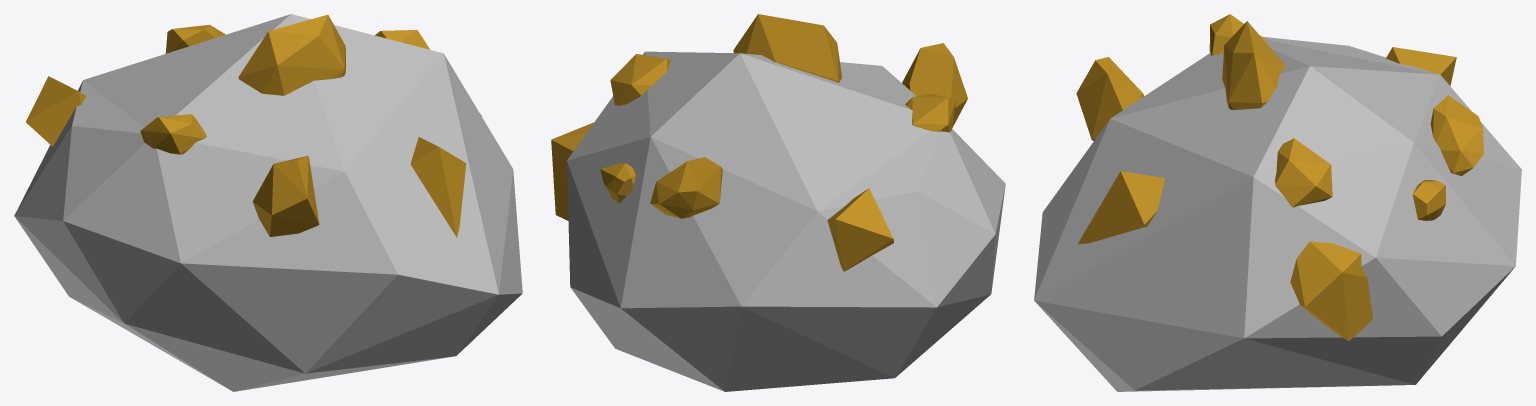
The model's file is rudaZlota.fbx.
3 views of the same model, side by side, from view 1: azimuth 30°, elevation 25°; view 2: azimuth 150°, elevation 25°; view 3: azimuth 270°, elevation 25° (orthographic). The views are drawn at different scales.
Visible parts, largest first — view 1: Icosphere.017; view 2: Icosphere.017; view 3: Icosphere.017.
Part boxes in pixels (x1,y1,x2,y2): Icosphere.017: (14, 14, 522, 391); Icosphere.017: (551, 14, 1005, 391); Icosphere.017: (1034, 14, 1521, 391).
Size of the model in its own units: 1470 by 1111 by 1421.
